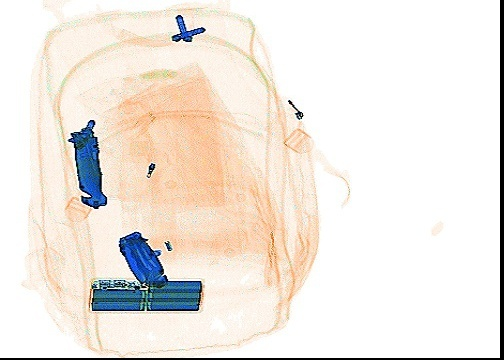knife: (65, 116, 107, 209), (115, 228, 167, 289)
powerbank: (86, 274, 203, 312)
